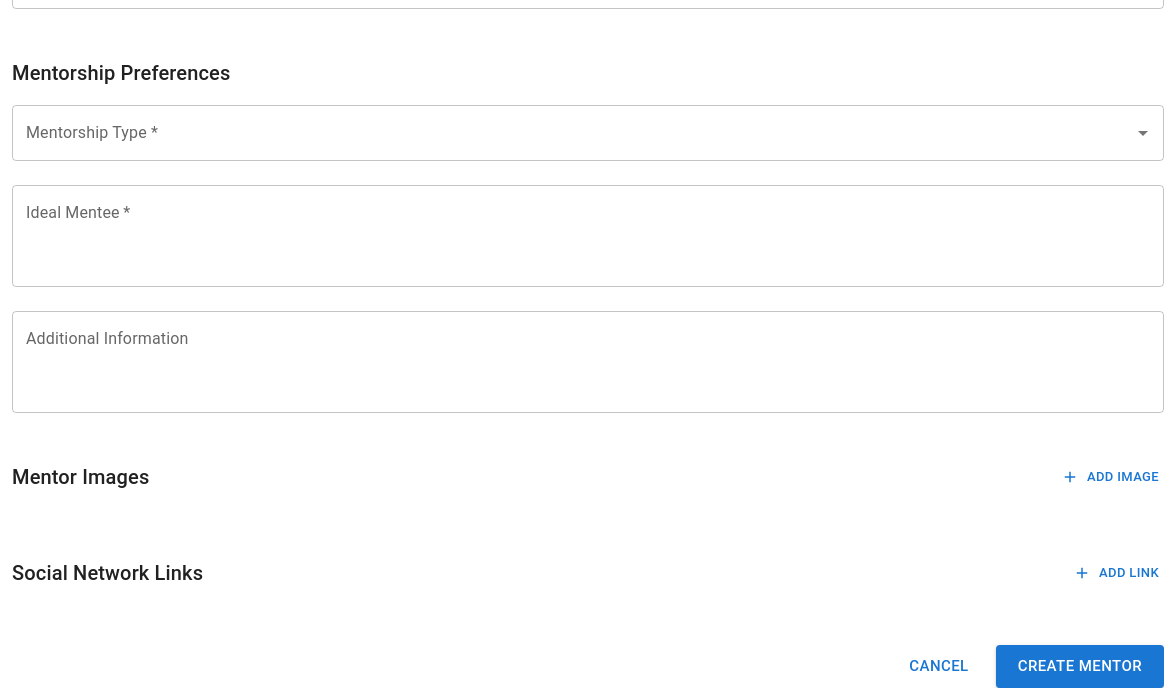
Test case: CreateMentorForm › does not submit form when Bio is empty
The width and height of the screenshot is (1176, 688).
(page scrolled)
Click the button "Create Mentor": [1080, 667] box [996,645,1164,687]
(page scrolled)
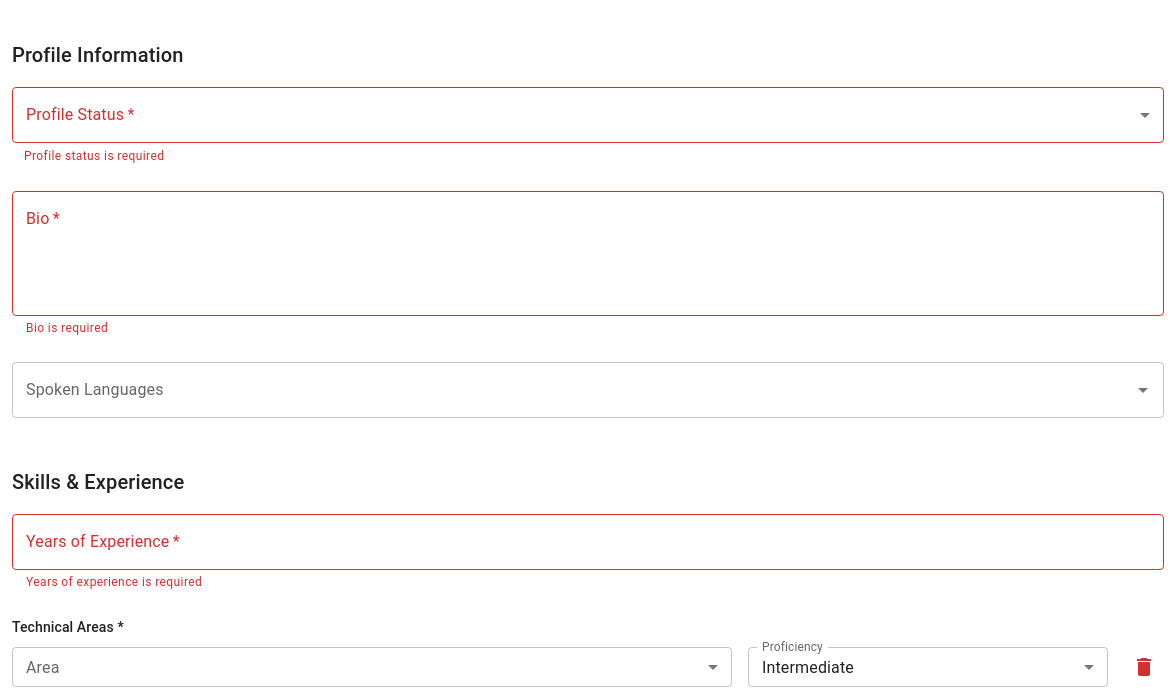
expect the text "Bio is required" is shown: met, box [26,320,108,334]
